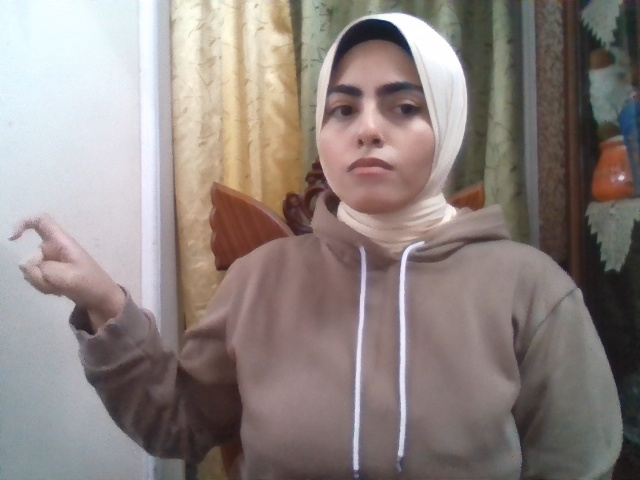X: (8, 212, 114, 308)
